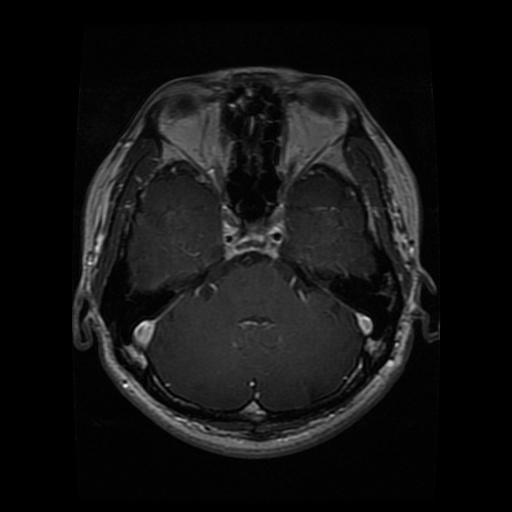glioma: (195, 280, 215, 301)
